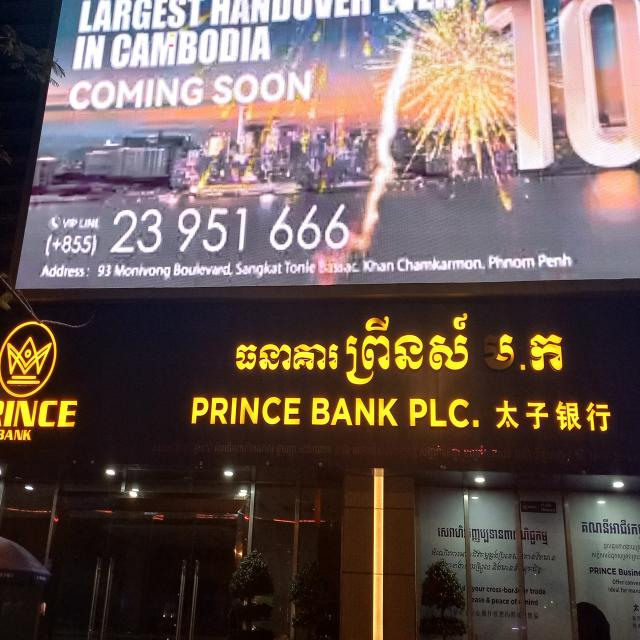1: (232, 303, 598, 392)
Yolov11_80vkh: (436, 521, 551, 548), (579, 514, 638, 538)
